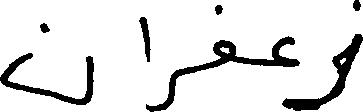X: (0, 18, 91, 109), (299, 0, 362, 111), (276, 31, 297, 111), (150, 44, 174, 111), (214, 0, 234, 71), (140, 12, 148, 111)
